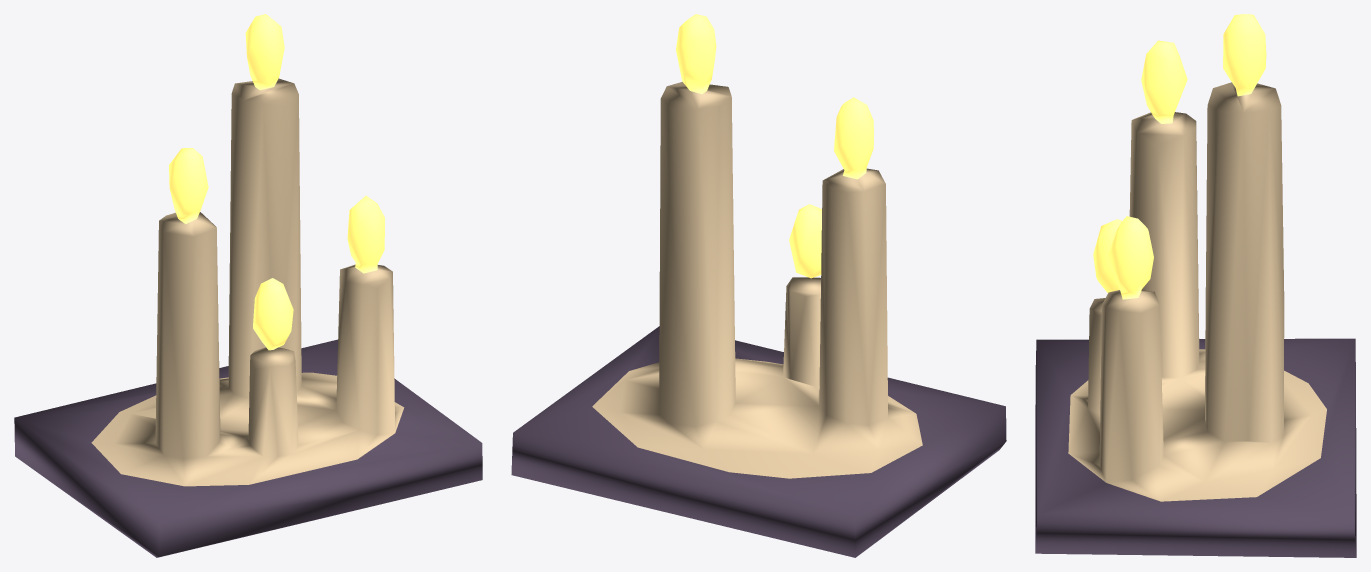
The model's file is candles.glb.
The picture shows the model from 3 angles, left to right: view 1: azimuth 30°, elevation 25°; view 2: azimuth 150°, elevation 25°; view 3: azimuth 270°, elevation 25°; orthographic projection. The views are drawn at different scales.
Visible parts, largest first — view 1: candles; view 2: candles; view 3: candles.
Part boxes in pixels (box(x1,y1,x2,y2)): candles: box(14, 14, 482, 557); candles: box(511, 14, 1006, 557); candles: box(1035, 14, 1356, 557).
Bounding box in the file's own units: 0.5174 × 0.6522 × 0.3991.
